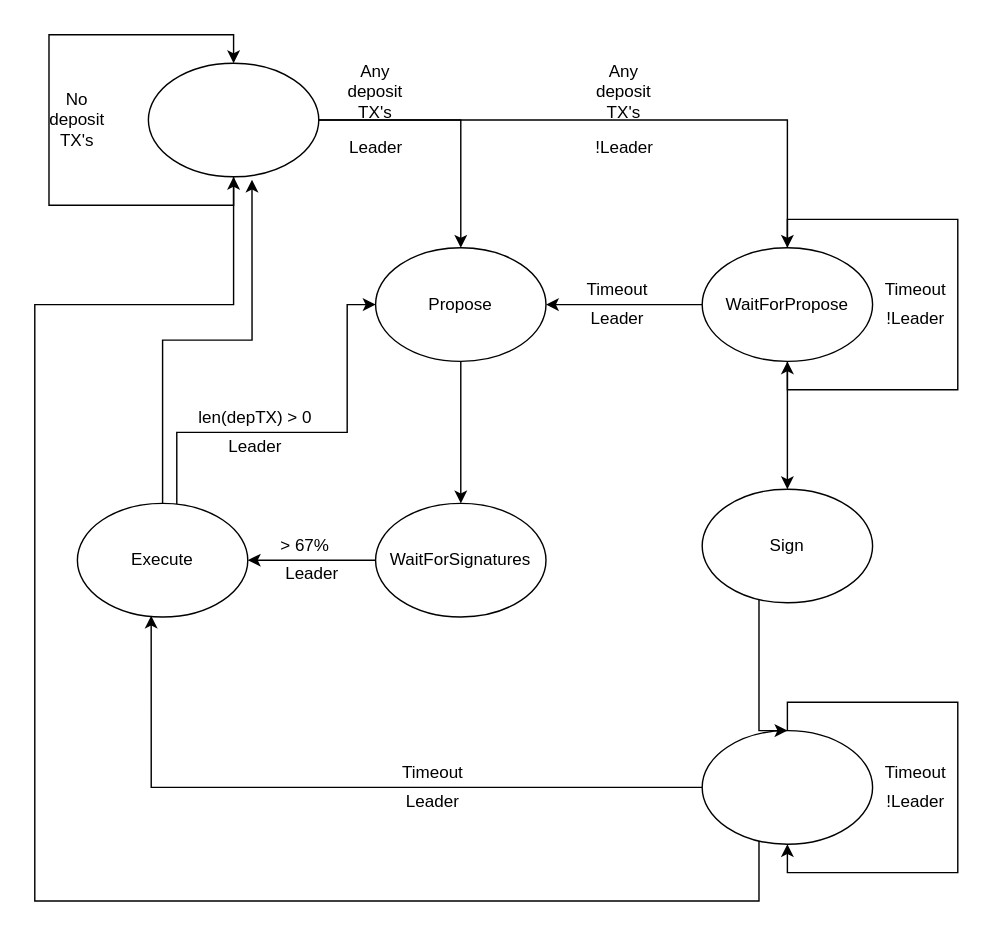
The diagram is 994 pixels wide and 937 high, and some of its shapes have lost their labels. The shapes that lost their labels are listed below. From the top down, each one's centre as x and y in pixels, then its label:
At (233,119): "Read Block".
At (787,786): "WaitForExecute".
